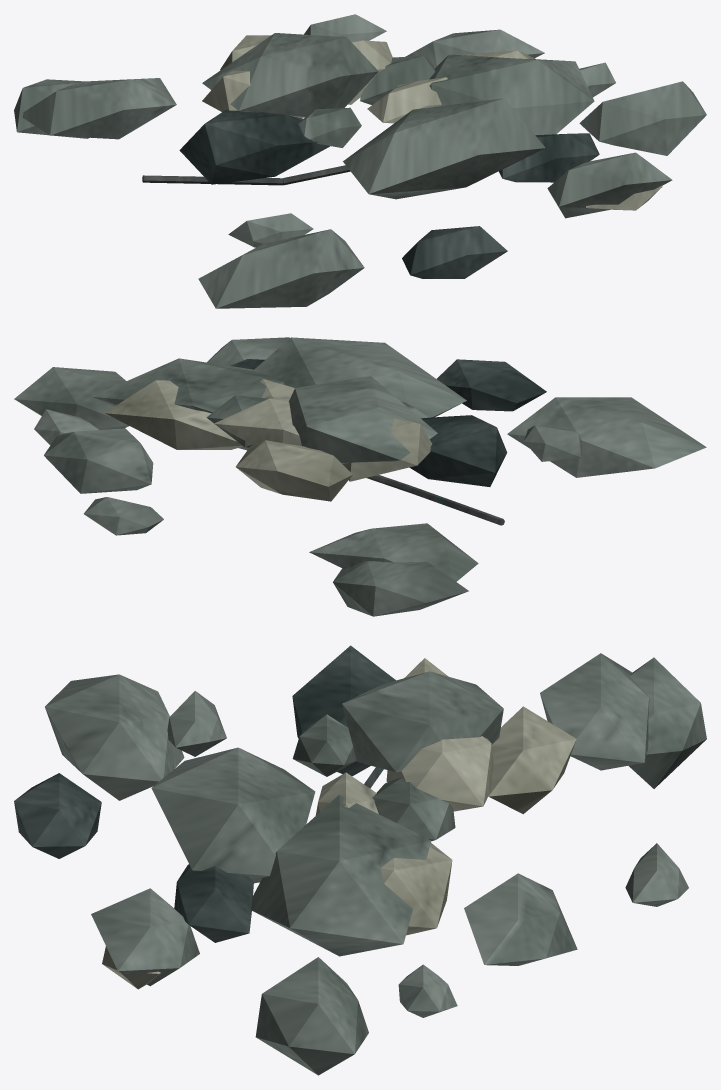
File: 0122_scree_pile_22.glb
The picture shows the model from 3 angles, top to bottom: view 1: azimuth 30°, elevation 25°; view 2: azimuth 150°, elevation 25°; view 3: azimuth 270°, elevation 25°; orthographic projection. The views are drawn at different scales.
Parts seen in each view (by area): view 1: stone, stone_dark, stone_light, iron; view 2: stone, stone_light, stone_dark, iron; view 3: stone, stone_light, stone_dark.
Boxes of the visible parts, <box> form: stone: <box>14,14,706,308</box>; stone_dark: <box>179,109,599,278</box>; stone_light: <box>202,35,662,210</box>; iron: <box>142,165,350,185</box>; stone: <box>14,337,706,616</box>; stone_light: <box>104,379,432,501</box>; stone_dark: <box>230,359,546,486</box>; iron: <box>367,475,504,525</box>; stone: <box>45,653,706,1075</box>; stone_light: <box>102,658,576,989</box>; stone_dark: <box>14,645,395,942</box>.
Bounding box in the file's own units: 2.82 × 0.6387 × 2.3.
Materials: 4 (4 with a texture image).
